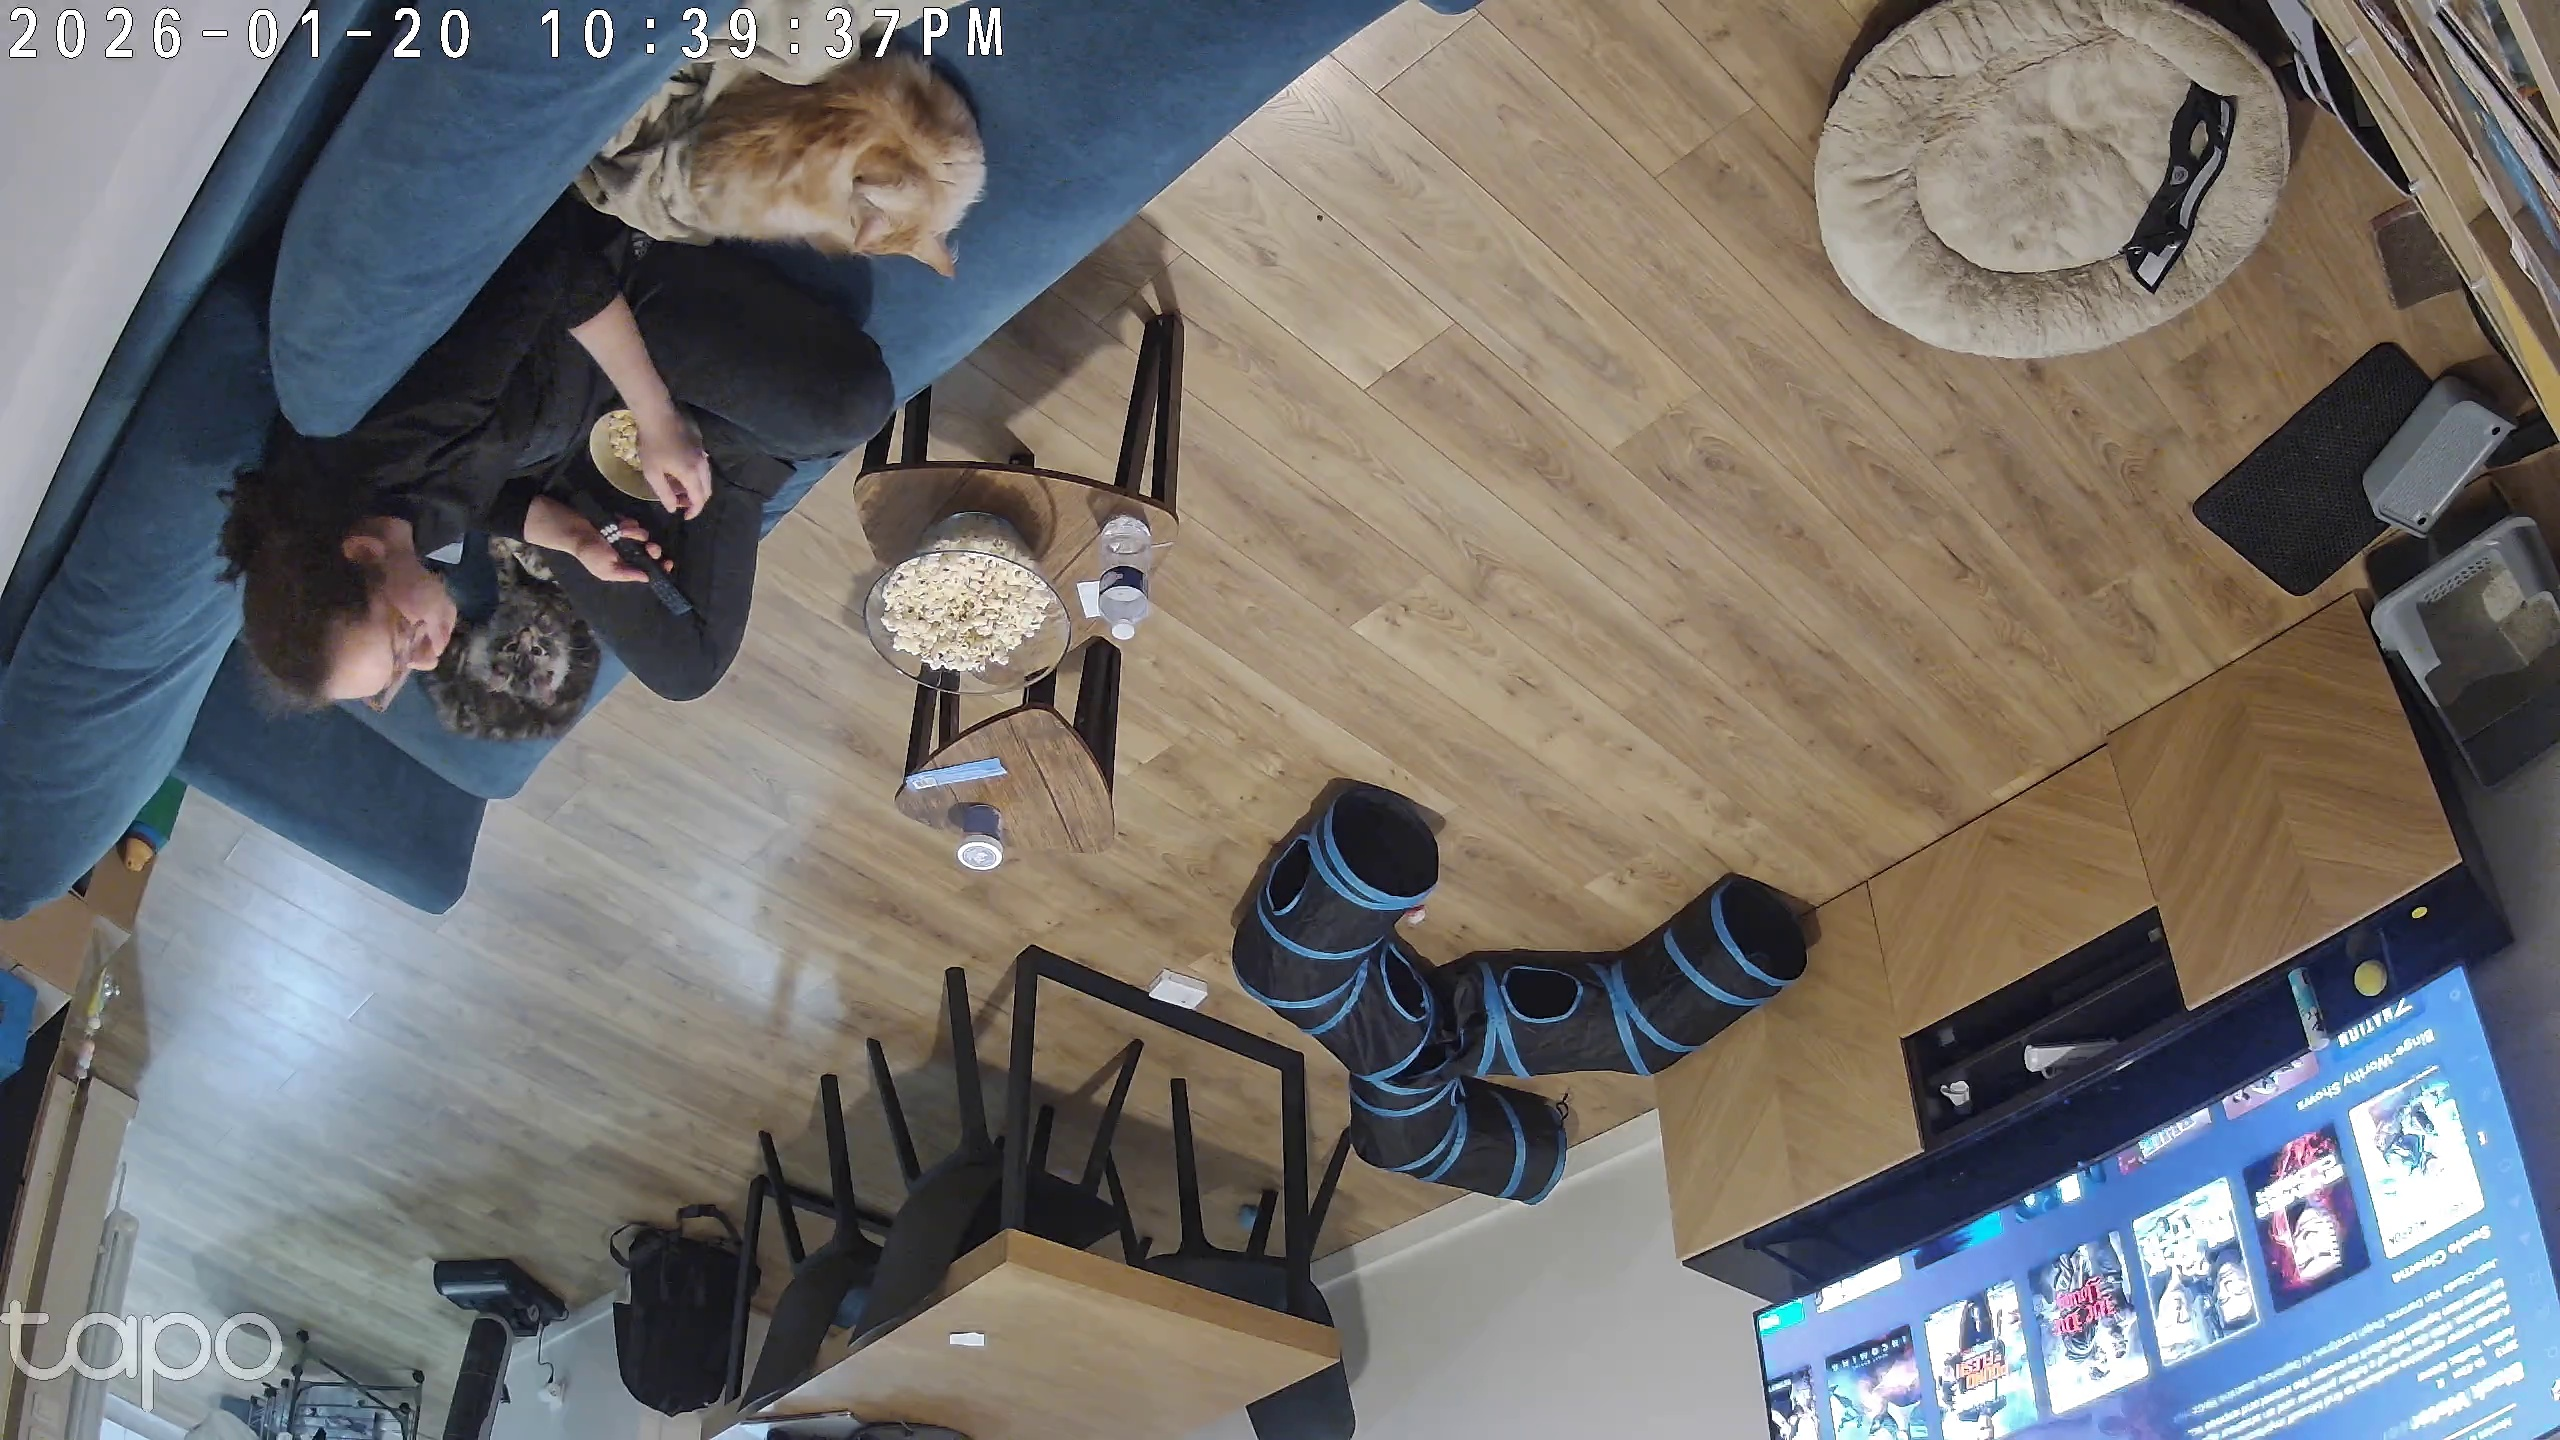Nala: (462, 566, 585, 726)
Simba: (661, 35, 1000, 264)
